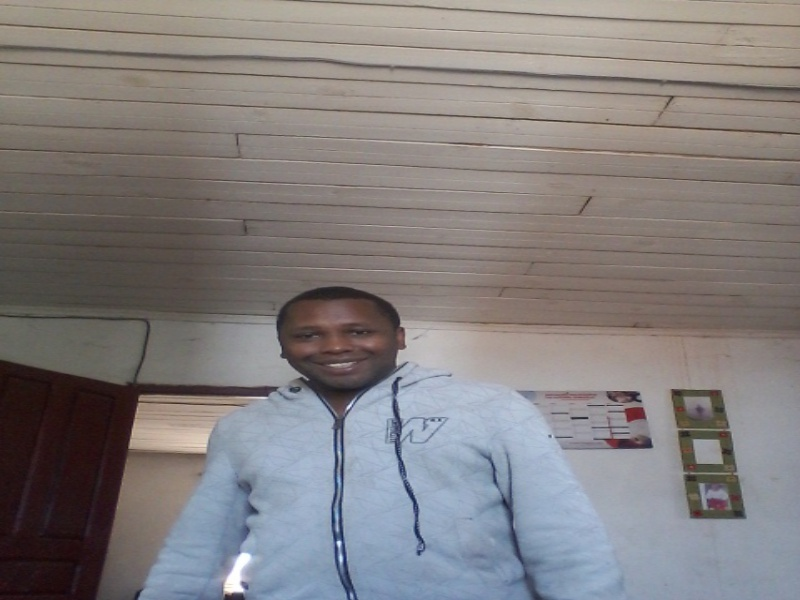TsisyArotava: (274, 284, 409, 408)
